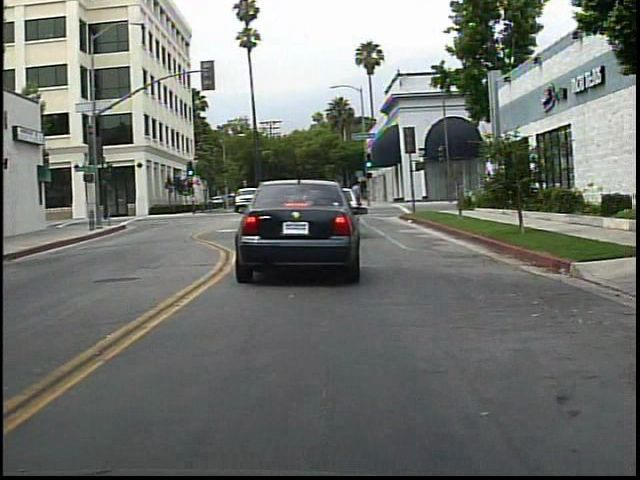person: (345, 176, 370, 220)
